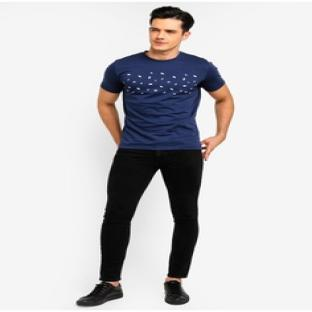Human: (77, 7, 233, 305)
